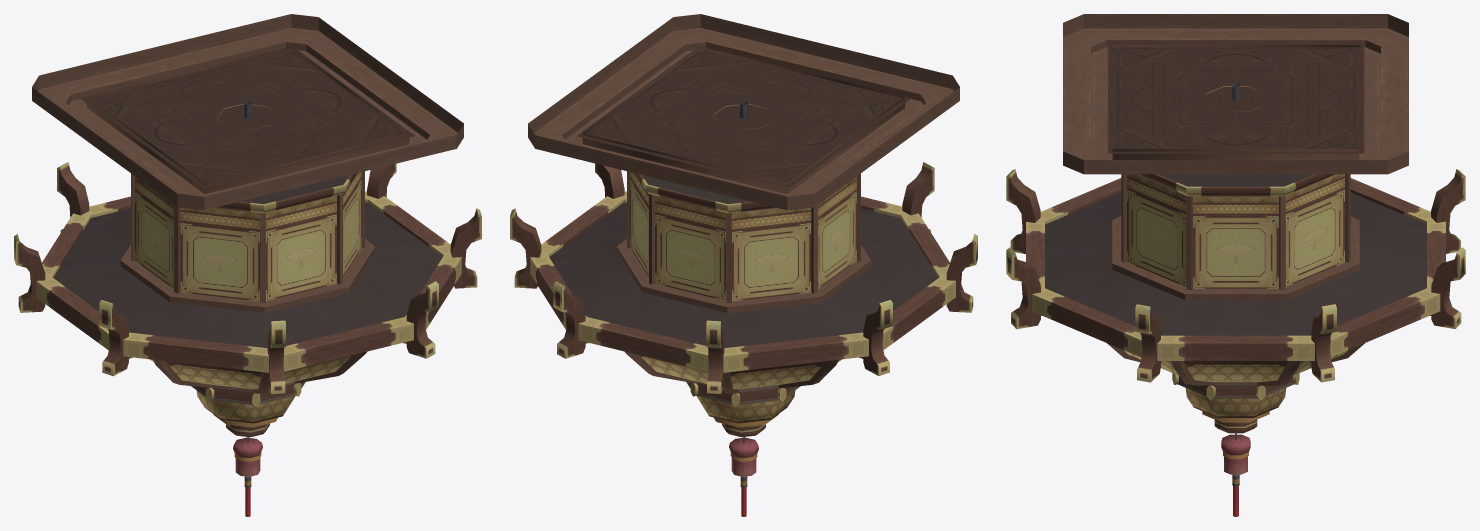
File: Homeworld_Interior_Ly_Lamp_Droplight_05_Vo.fbx
3 renders of one model, left to right at view 1: azimuth 30°, elevation 25°; view 2: azimuth 150°, elevation 25°; view 3: azimuth 270°, elevation 25°, orthographic. The views are drawn at different scales.
Parts seen in each view (by area): view 1: Indoor_Ly_Prop_Lantern_03_Vo; view 2: Indoor_Ly_Prop_Lantern_03_Vo; view 3: Indoor_Ly_Prop_Lantern_03_Vo.
Part boxes in pixels (x1,y1,x2,y2): Indoor_Ly_Prop_Lantern_03_Vo: [14, 14, 481, 516]; Indoor_Ly_Prop_Lantern_03_Vo: [510, 14, 977, 516]; Indoor_Ly_Prop_Lantern_03_Vo: [1006, 14, 1465, 516].
Bounding box in the file's own units: 4.78 × 4.95 × 4.78.
1 material, 1 textured.
